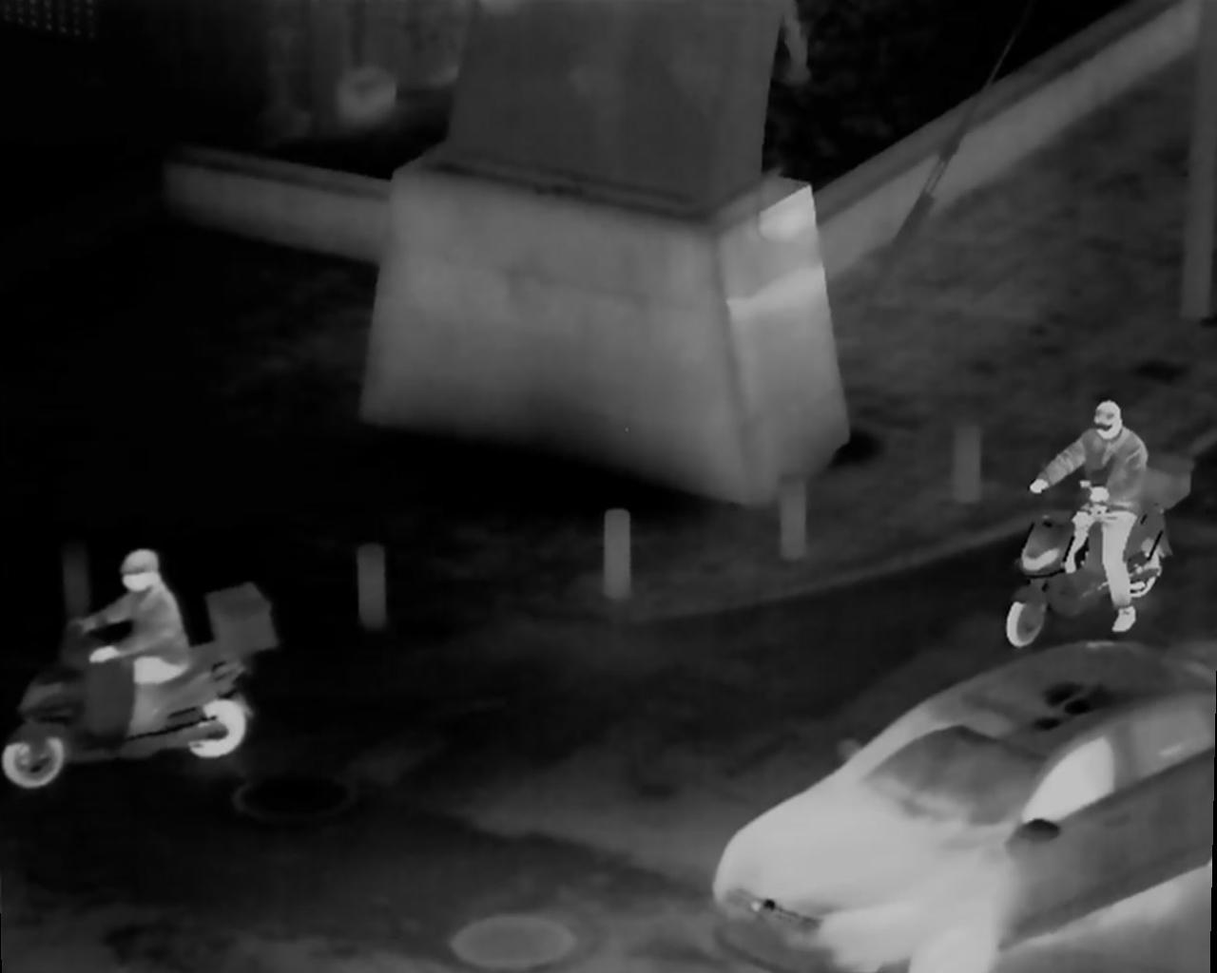person: (1028, 396, 1161, 639), (81, 542, 192, 720)
